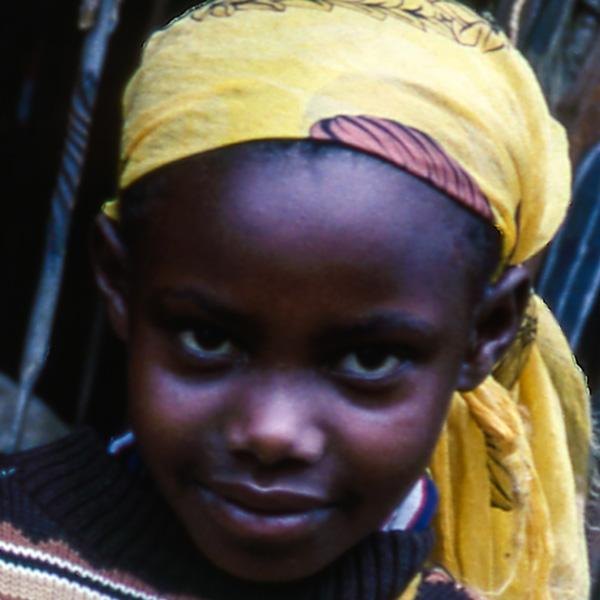Eyes: (161, 309, 249, 374), (321, 335, 418, 391)
